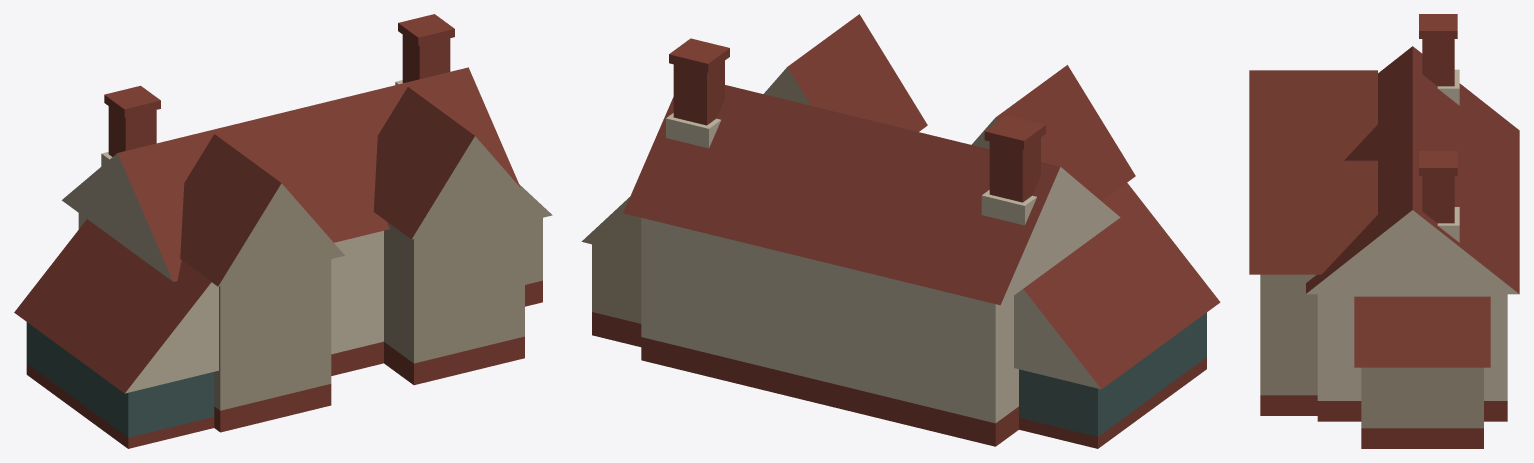
Rendered from test-hudec-topology-a-massing.glb.
The picture shows the model from 3 angles, left to right: view 1: azimuth 30°, elevation 25°; view 2: azimuth 150°, elevation 25°; view 3: azimuth 270°, elevation 25°; orthographic projection. The views are drawn at different scales.
Parts seen in each view (by area): view 1: test-hudec-topology-a-massing; view 2: test-hudec-topology-a-massing; view 3: test-hudec-topology-a-massing.
Boxes of the visible parts, x1,y1,x2,y2 form: test-hudec-topology-a-massing: (14, 14, 552, 448); test-hudec-topology-a-massing: (581, 14, 1220, 448); test-hudec-topology-a-massing: (1249, 14, 1519, 448).
Size of the model in its own units: 13.28 by 7.08 by 6.83.
